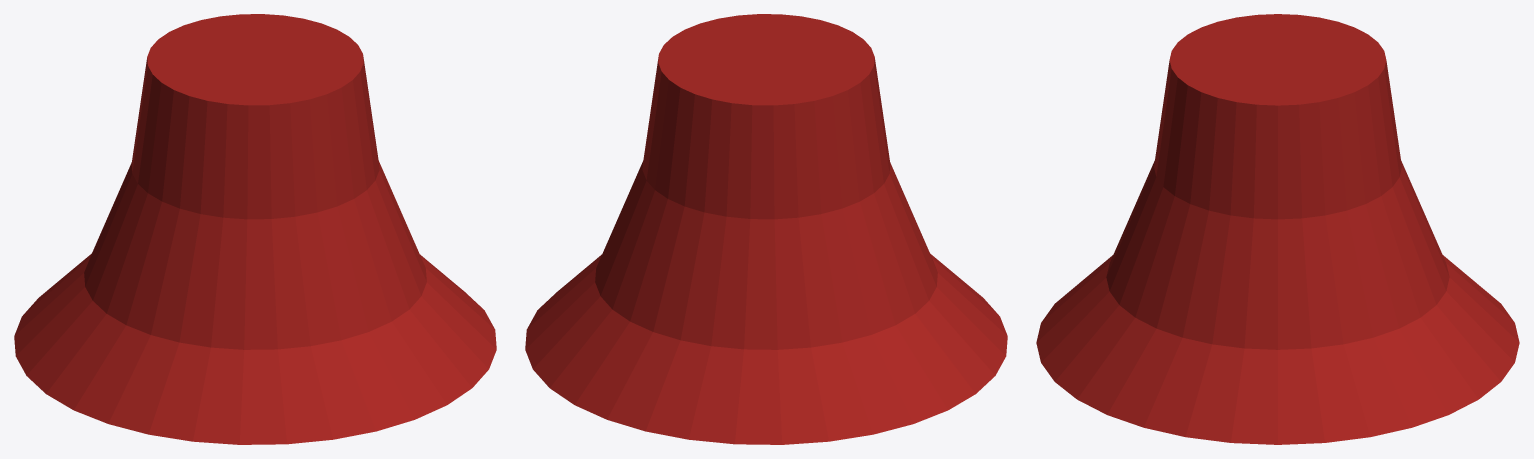
Rendered from cellwall.fbx.
The picture shows the model from 3 angles, left to right: view 1: azimuth 30°, elevation 25°; view 2: azimuth 150°, elevation 25°; view 3: azimuth 270°, elevation 25°; orthographic projection.
Parts seen in each view (by area): view 1: Cylinder; view 2: Cylinder; view 3: Cylinder.
Boxes of the visible parts, x1,y1,x2,y2 form: Cylinder: (14,14,496,444); Cylinder: (525,14,1007,444); Cylinder: (1036,14,1519,444).
Bounding box in the file's own units: 309 × 200 × 309.
